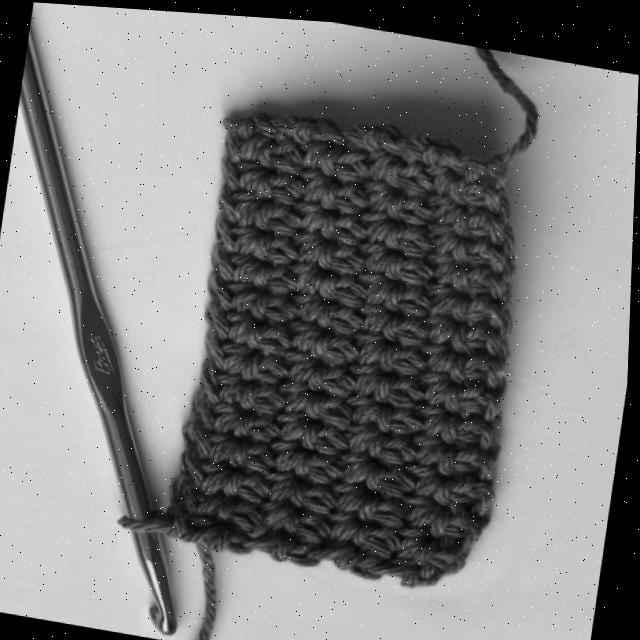ch: (485, 160, 512, 219), (494, 213, 513, 263), (490, 354, 506, 409), (475, 473, 495, 516), (494, 290, 510, 336), (478, 442, 497, 478), (493, 325, 508, 367), (483, 421, 501, 455), (485, 391, 500, 431), (496, 258, 509, 295)
sc: (170, 470, 228, 512), (193, 386, 246, 431), (184, 413, 237, 458), (347, 370, 419, 402), (206, 323, 255, 370), (201, 354, 246, 405), (183, 441, 232, 487), (206, 263, 260, 303), (300, 386, 352, 426), (355, 338, 421, 369), (219, 437, 272, 475), (167, 499, 217, 539), (216, 206, 262, 249), (339, 326, 395, 361), (212, 240, 262, 279), (326, 446, 385, 478), (204, 298, 255, 335), (242, 198, 300, 230), (238, 283, 291, 318), (287, 442, 337, 479), (297, 361, 352, 394), (212, 496, 262, 532), (303, 268, 361, 299), (357, 513, 400, 554), (276, 507, 326, 542), (441, 168, 486, 206), (220, 182, 259, 225), (339, 358, 388, 392), (236, 318, 287, 350), (298, 329, 354, 358), (445, 201, 491, 236), (315, 144, 365, 176), (274, 345, 321, 379), (352, 172, 395, 209), (211, 467, 264, 497), (445, 346, 489, 381), (395, 457, 439, 492), (306, 179, 361, 207), (350, 296, 395, 330), (349, 269, 398, 300), (360, 398, 416, 425), (387, 277, 429, 313), (408, 395, 450, 431), (226, 380, 280, 408), (305, 240, 357, 269), (434, 376, 482, 407), (289, 477, 334, 510), (307, 210, 360, 238), (228, 350, 281, 378), (394, 486, 440, 518), (354, 142, 396, 177), (274, 530, 323, 560), (247, 231, 294, 262), (335, 545, 385, 574), (287, 162, 332, 194), (324, 478, 375, 506), (225, 153, 267, 187), (225, 409, 275, 437), (446, 287, 492, 317), (296, 421, 342, 451), (303, 304, 356, 330), (351, 205, 394, 237), (280, 315, 323, 347), (242, 259, 286, 290), (282, 225, 327, 255), (432, 470, 474, 502), (225, 127, 267, 159), (329, 420, 382, 445), (412, 310, 457, 339), (401, 432, 443, 463), (444, 406, 480, 442), (407, 361, 455, 388), (418, 533, 461, 563), (249, 496, 295, 524), (439, 440, 478, 473), (386, 156, 426, 188), (340, 390, 384, 419), (417, 276, 458, 307), (258, 137, 299, 168), (370, 427, 412, 457), (319, 507, 364, 535), (368, 460, 406, 493), (412, 334, 450, 367), (384, 249, 423, 281), (421, 245, 460, 277), (443, 260, 489, 287), (361, 490, 401, 521), (389, 188, 429, 219), (446, 231, 490, 258), (268, 407, 312, 434), (453, 314, 490, 346), (388, 219, 427, 249), (204, 524, 254, 547), (429, 503, 467, 533), (281, 289, 328, 313), (393, 519, 429, 550), (348, 239, 389, 266), (282, 258, 323, 285), (256, 468, 298, 494), (416, 157, 449, 189), (258, 170, 293, 200), (260, 438, 300, 464), (279, 200, 326, 222), (424, 216, 457, 247), (292, 135, 331, 161), (416, 190, 454, 216), (271, 377, 307, 404), (385, 313, 422, 339)
